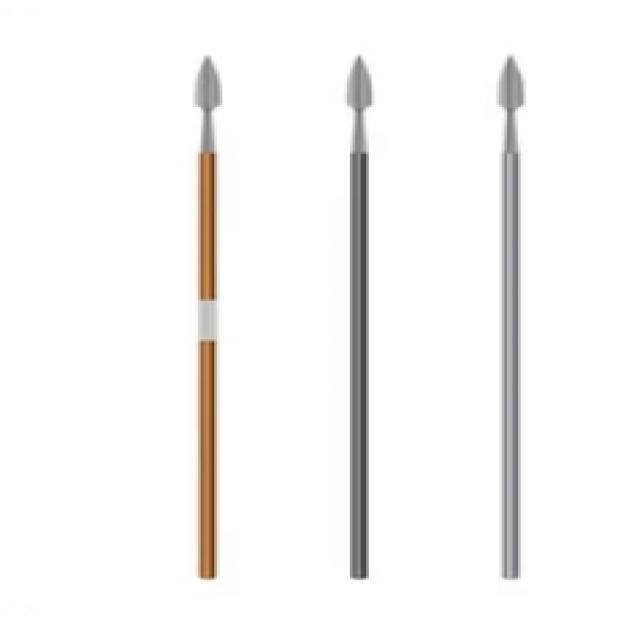spear: (321, 41, 411, 594), (158, 39, 237, 594), (472, 37, 540, 593)
